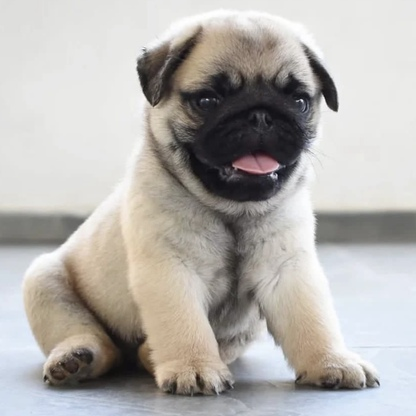Pug: (17, 3, 384, 402)
